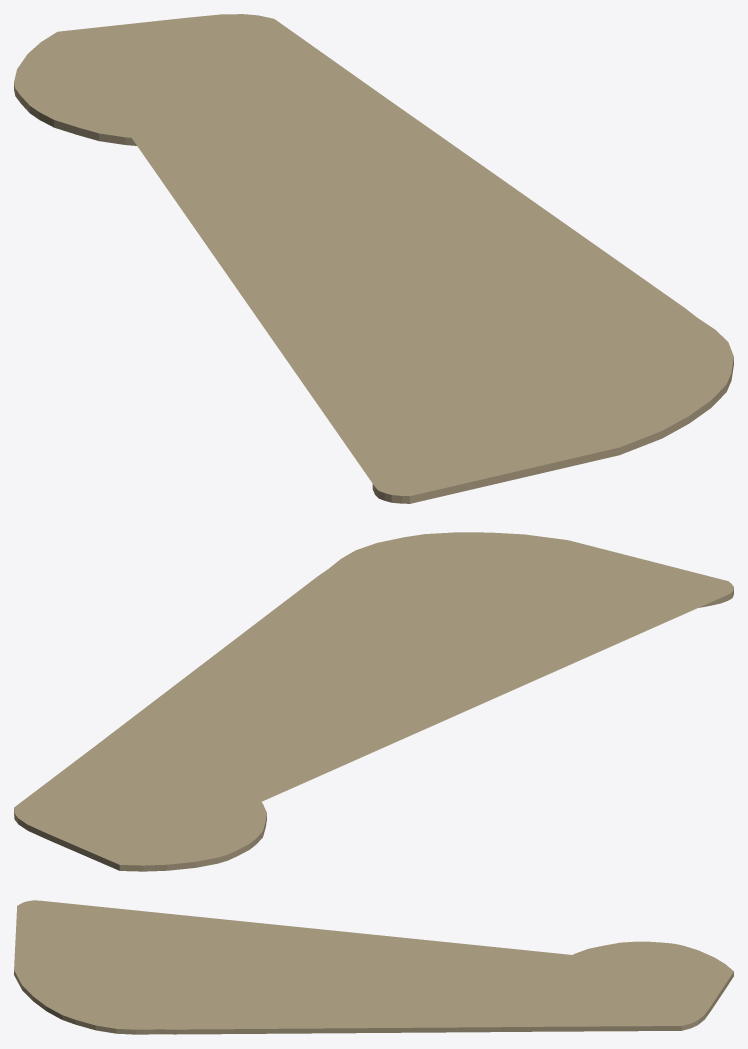
The picture shows the model from 3 angles, top to bottom: view 1: azimuth 30°, elevation 25°; view 2: azimuth 150°, elevation 25°; view 3: azimuth 270°, elevation 25°; orthographic projection. The views are drawn at different scales.
Parts seen in each view (by area): view 1: Cube.014; view 2: Cube.014; view 3: Cube.014.
Boxes of the visible parts, bbox=[...] form: Cube.014: bbox=[14, 14, 733, 503]; Cube.014: bbox=[14, 532, 733, 871]; Cube.014: bbox=[14, 900, 733, 1034].
Bounding box in the file's own units: 848 × 15 × 1994.
